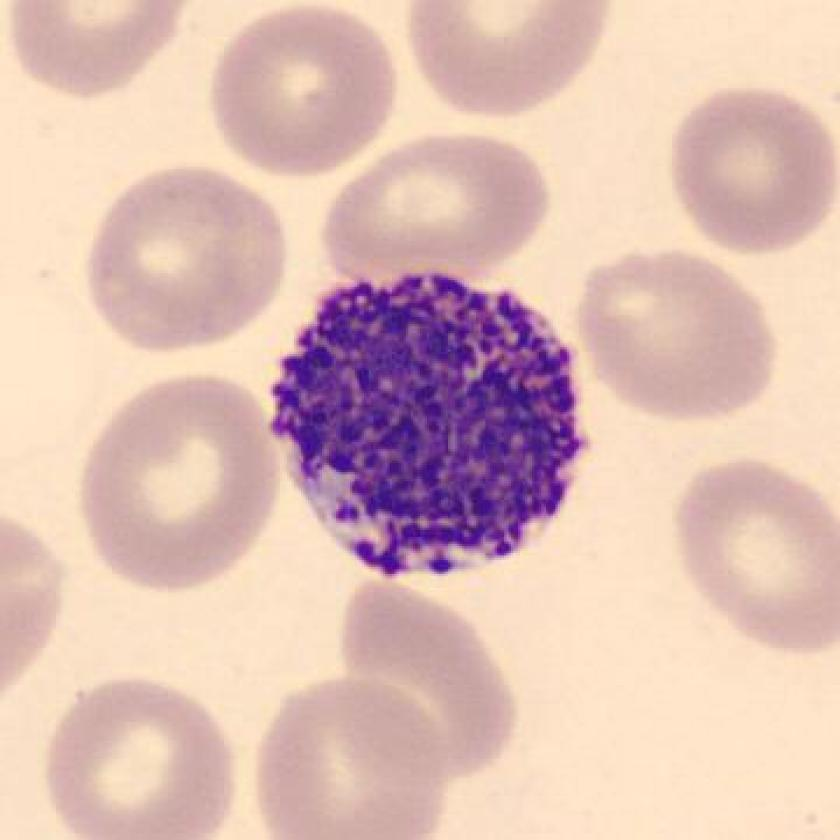basophil: (267, 270, 603, 591)
